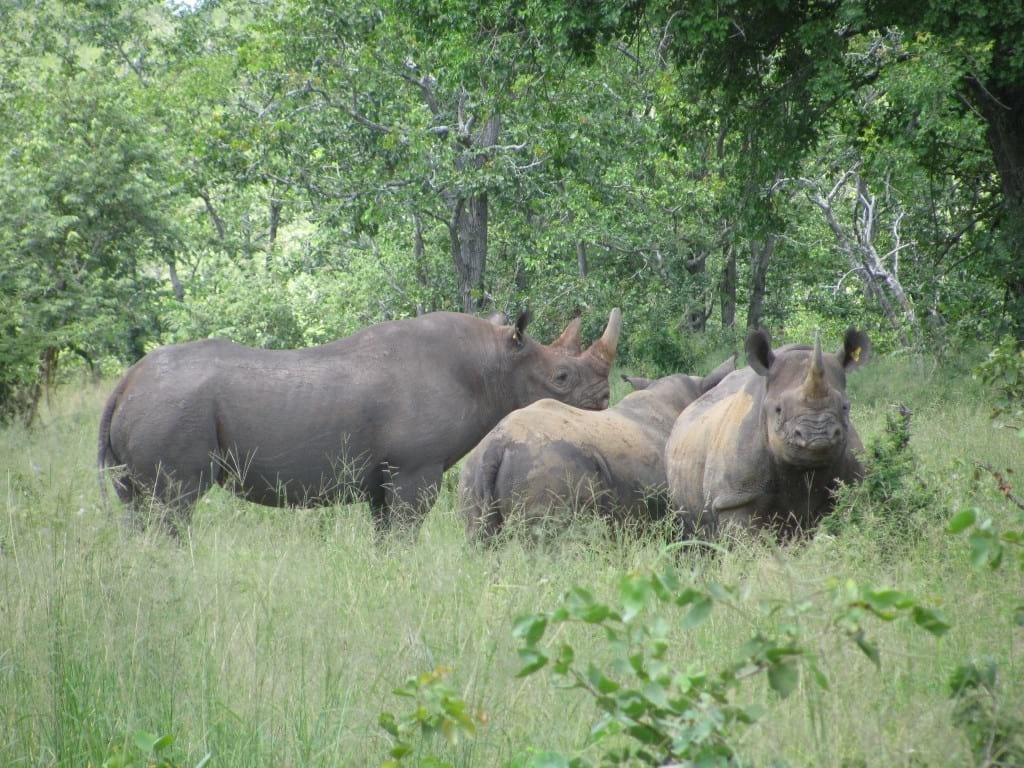rhino: (94, 302, 620, 555), (456, 348, 741, 555), (657, 320, 873, 563)
